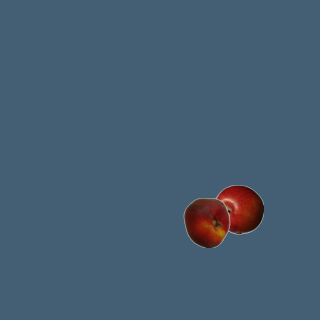Apple Braeburn: (213, 184, 263, 234)
Nectarine Flat: (181, 197, 231, 247)
